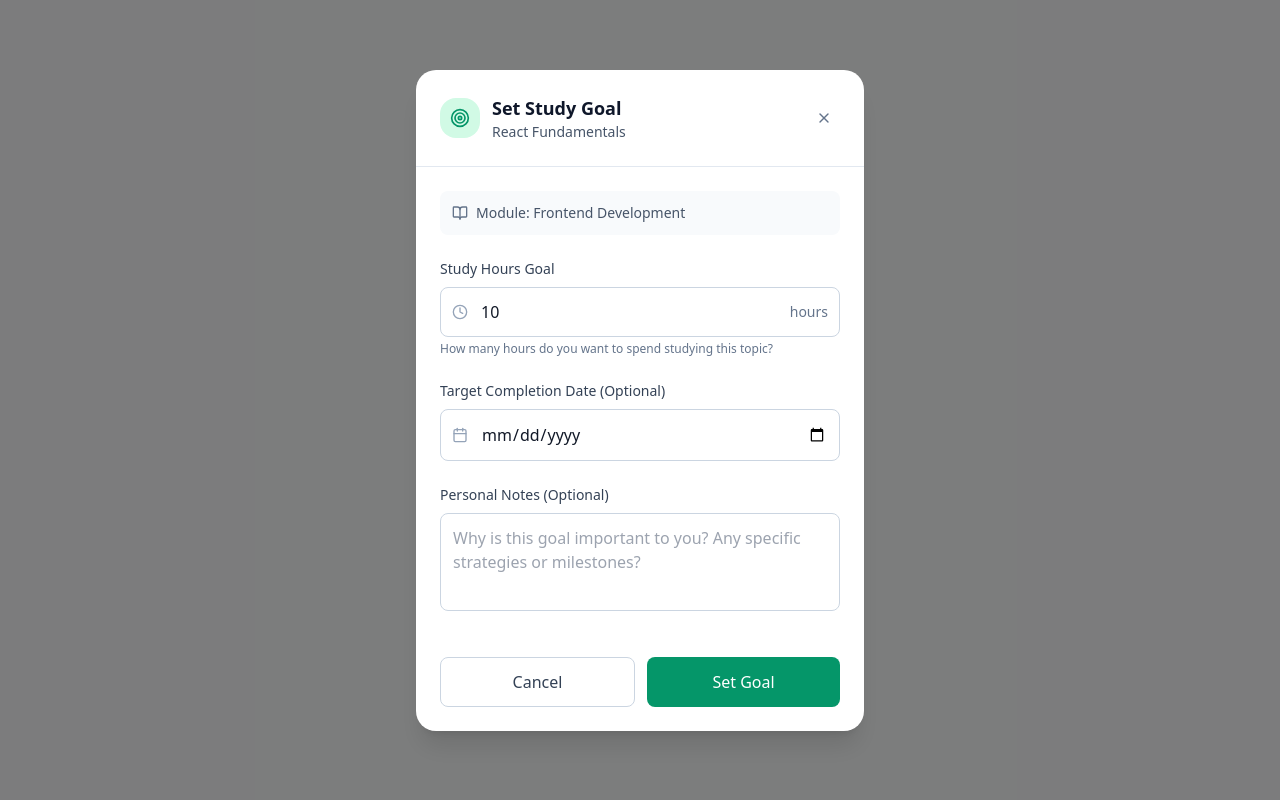
Scenario: StudyGoalDialog Component › shows loading state while submitting
Click the button "Set Goal": (744, 682) top-left (647, 656), bottom-right (840, 706)
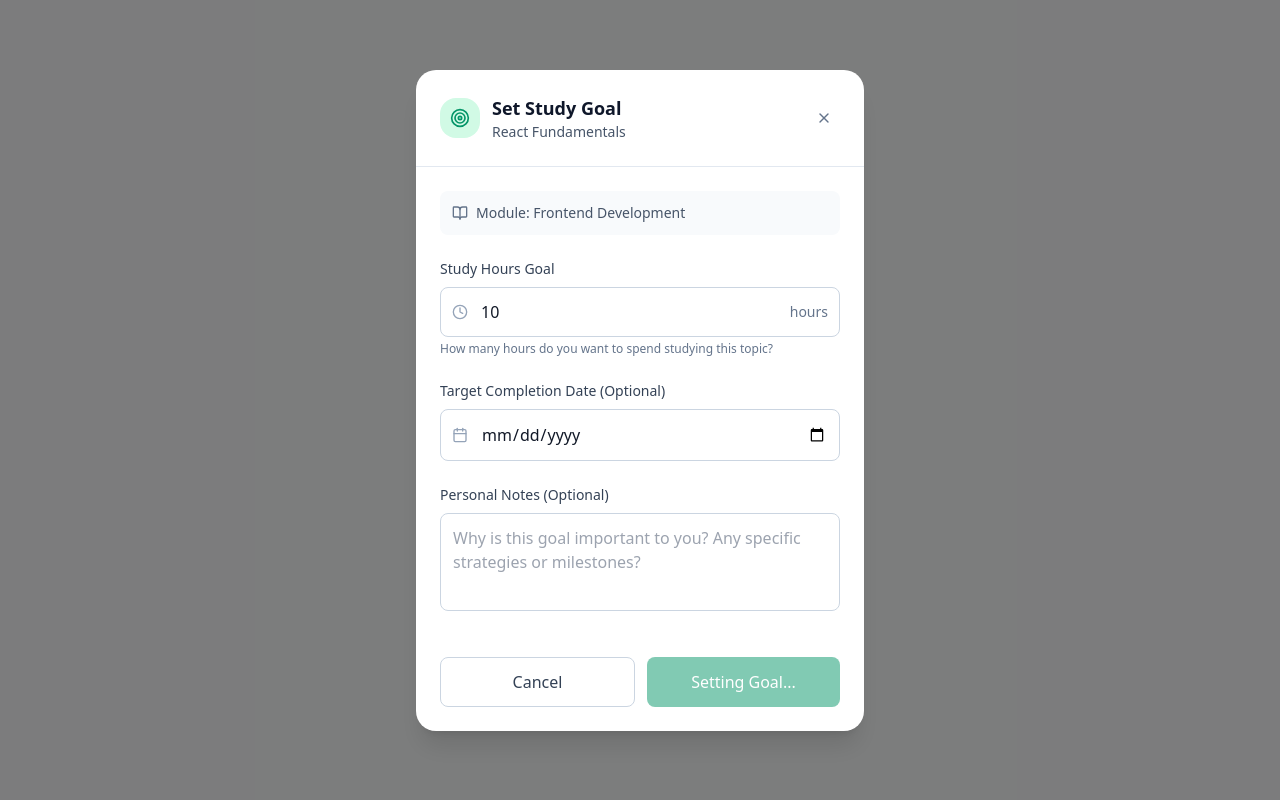
Expected: the button "Setting Goal..." is disabled, top-left (647, 656), bottom-right (840, 706)
